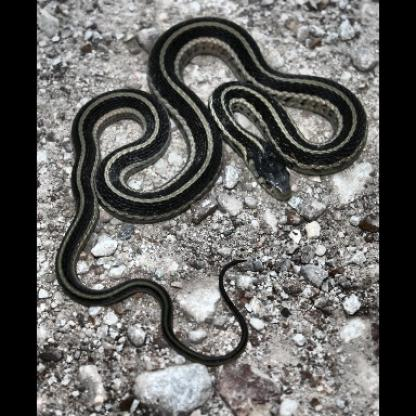Snake: (60, 15, 366, 378)
